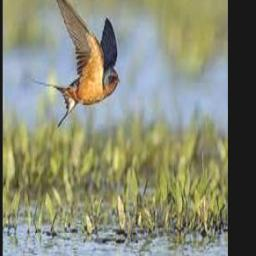Swallow: (32, 0, 120, 128)
